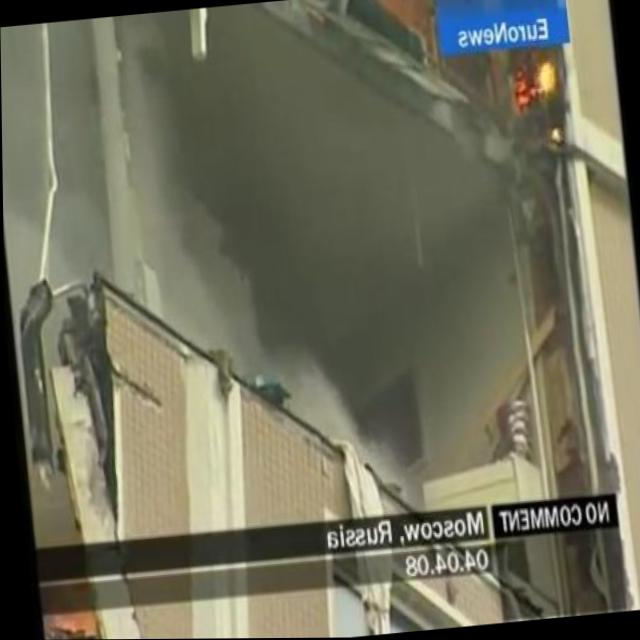fire: (506, 45, 562, 120)
